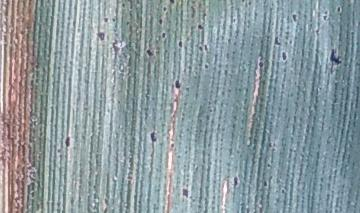tarspot: (328, 47, 341, 76), (280, 49, 288, 64), (95, 31, 106, 41), (148, 130, 157, 142), (232, 175, 239, 190), (145, 48, 155, 58), (189, 4, 196, 18), (181, 187, 189, 199), (174, 78, 182, 90), (273, 35, 281, 47), (64, 135, 71, 148), (200, 11, 208, 22), (291, 13, 298, 25), (176, 39, 184, 49), (196, 22, 204, 32), (168, 141, 176, 151), (102, 16, 110, 24), (321, 14, 328, 23), (262, 180, 269, 189), (336, 4, 342, 14), (158, 17, 164, 27), (203, 42, 209, 52), (257, 61, 264, 69), (265, 161, 272, 169), (280, 187, 287, 195), (197, 45, 204, 53), (161, 30, 167, 39), (162, 5, 168, 14), (203, 62, 209, 70), (232, 16, 237, 25), (111, 16, 116, 24), (120, 1, 125, 9), (168, 1, 176, 5), (240, 1, 245, 4)
